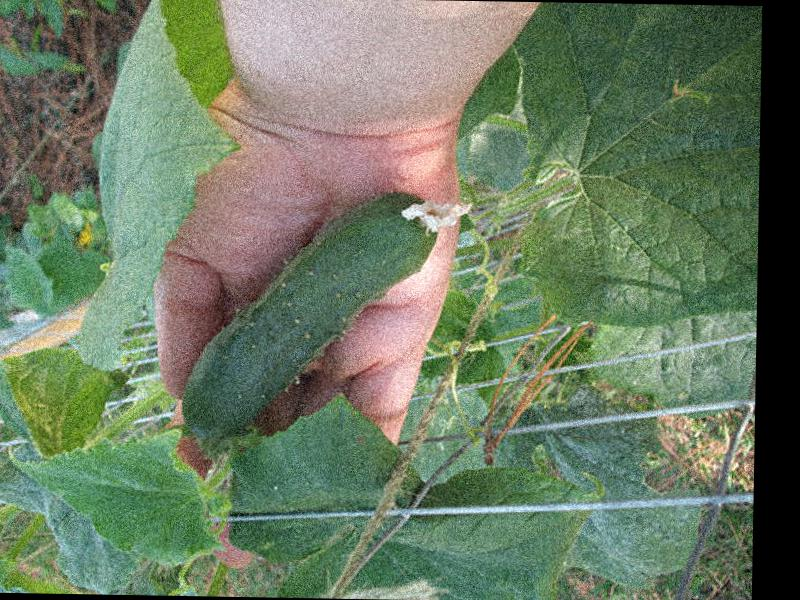Cucumber: (183, 189, 474, 445)
